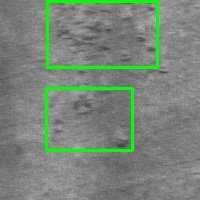rolled-in_scale: (48, 1, 157, 67), (46, 88, 132, 150)
